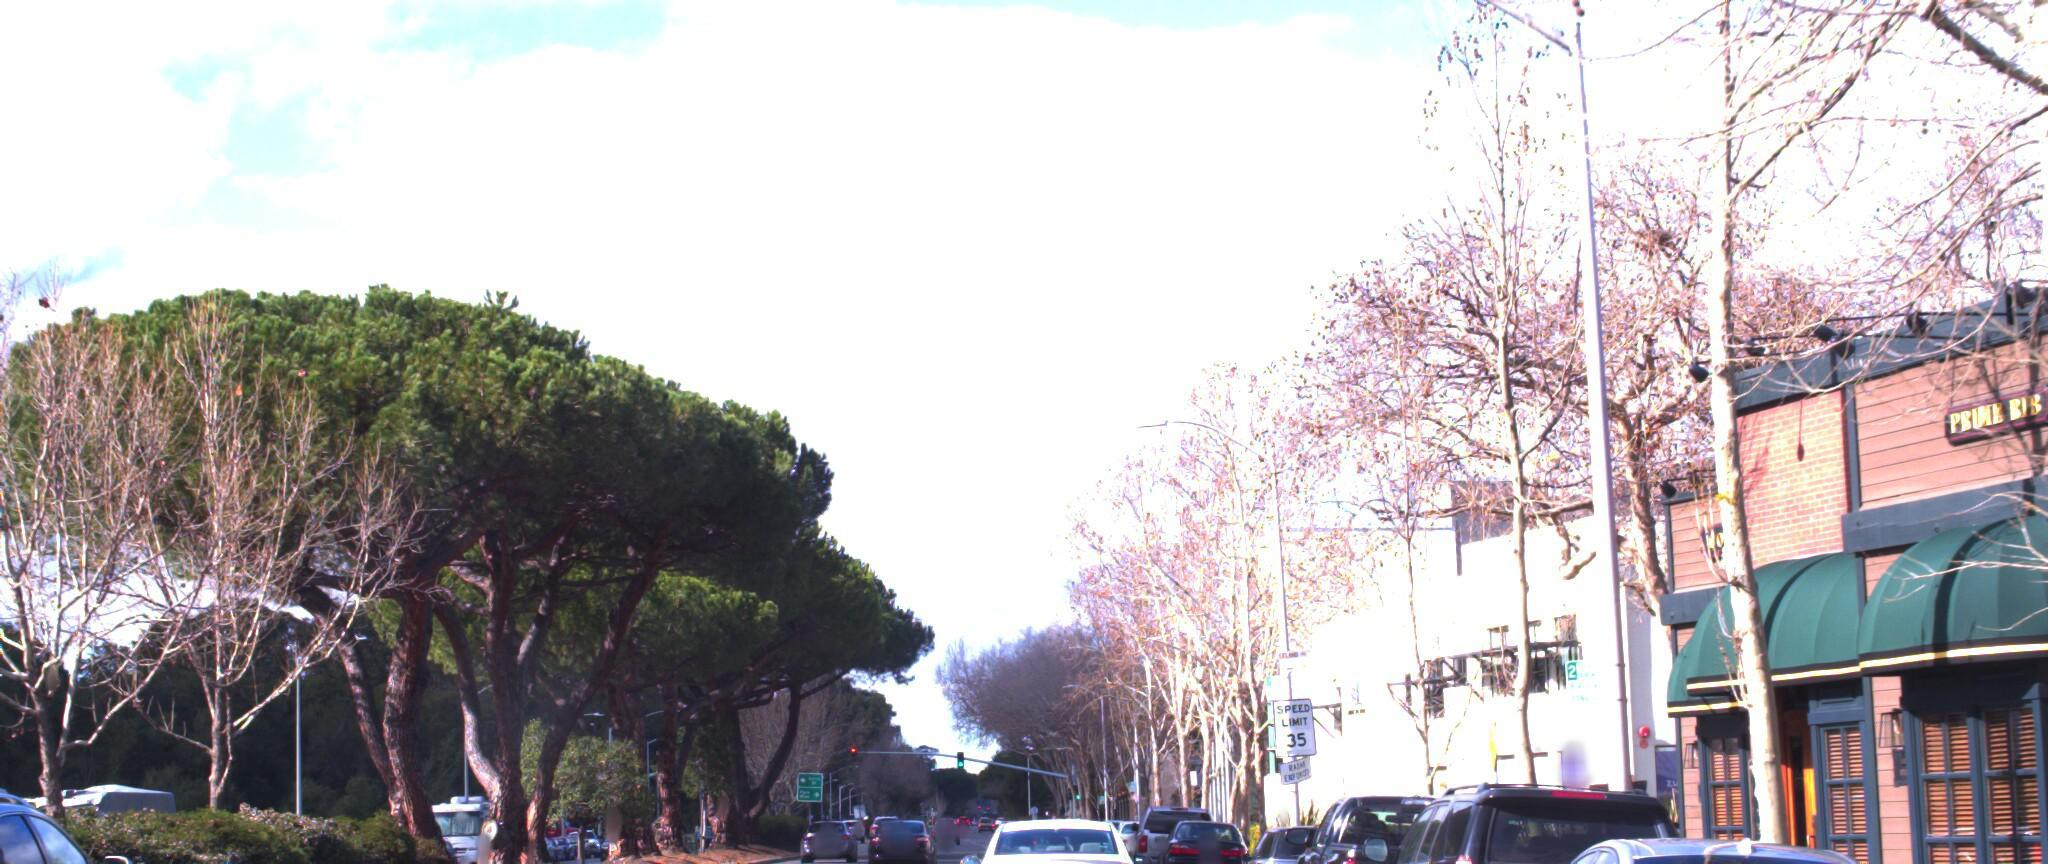car: (1327, 764, 1725, 864), (1455, 813, 2008, 864), (1292, 764, 1546, 864), (0, 750, 206, 864), (968, 786, 1149, 864), (0, 827, 366, 864), (1230, 800, 1384, 864), (1134, 780, 1230, 864), (1159, 796, 1254, 864), (867, 797, 938, 856)
